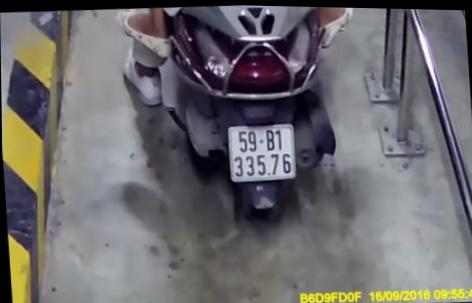LP: (224, 118, 298, 182)
